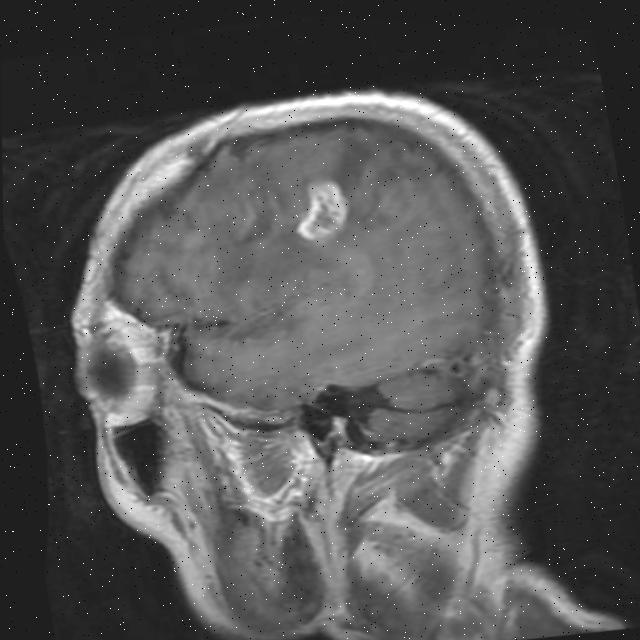Glioma: (288, 171, 356, 246)
